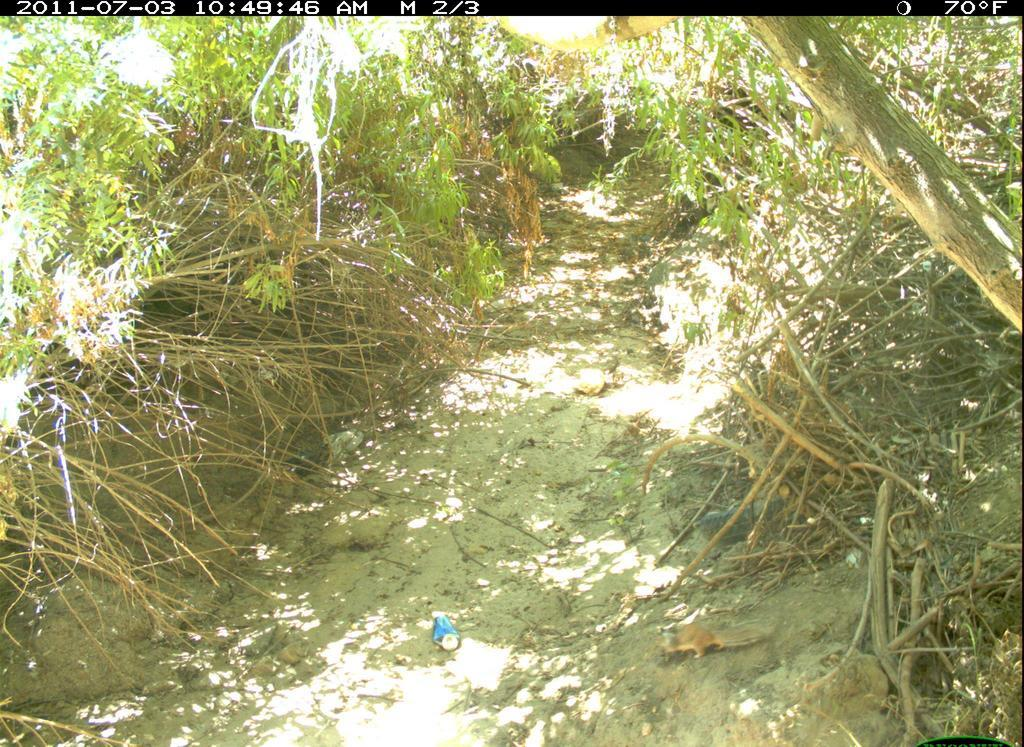squirrel: (647, 591, 804, 666)
